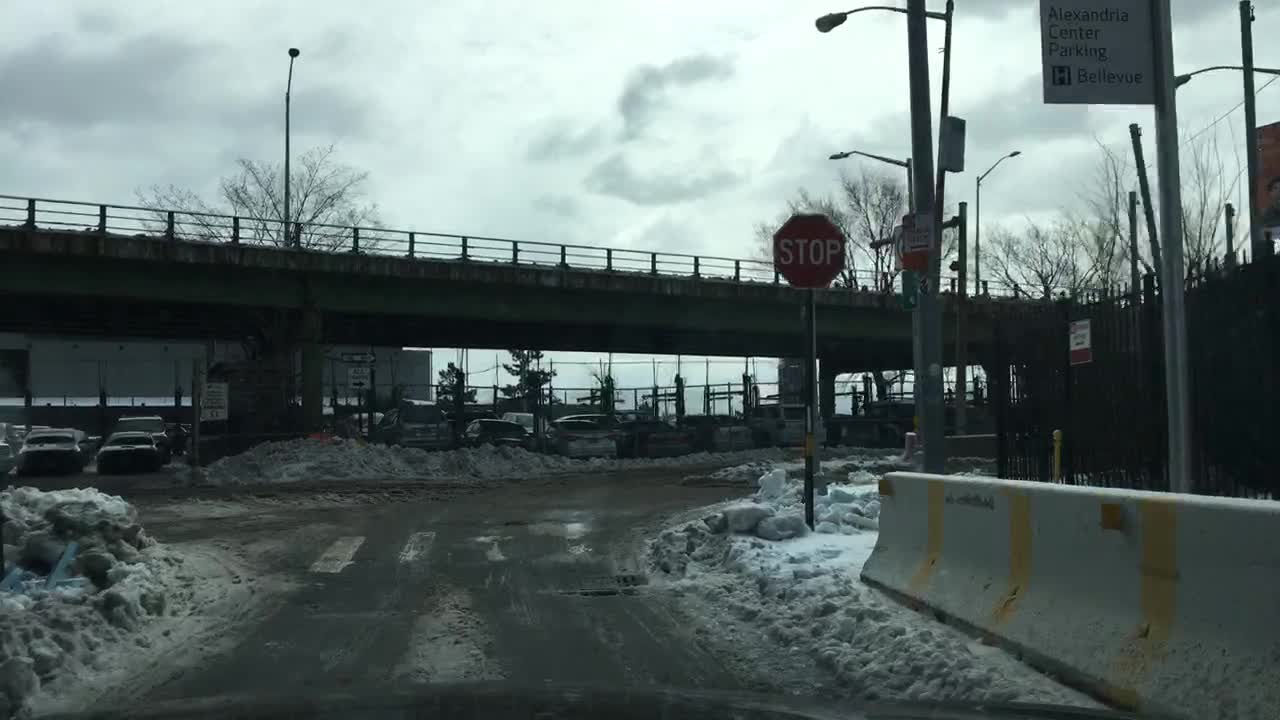car: (864, 396, 957, 447), (375, 401, 456, 456), (748, 402, 829, 448), (543, 420, 618, 461), (21, 427, 83, 475), (112, 413, 173, 461), (618, 418, 691, 454), (459, 418, 536, 452), (99, 429, 161, 471), (687, 415, 754, 448), (340, 409, 384, 440), (444, 403, 497, 424), (555, 412, 622, 427), (503, 409, 539, 433), (0, 440, 14, 489), (76, 424, 89, 454)
traffic sign: (1039, 2, 1154, 104), (772, 212, 845, 289), (1256, 120, 1279, 240), (896, 212, 939, 269), (200, 377, 229, 423), (1066, 322, 1091, 363), (902, 269, 917, 313), (348, 366, 372, 392), (340, 351, 376, 364)
